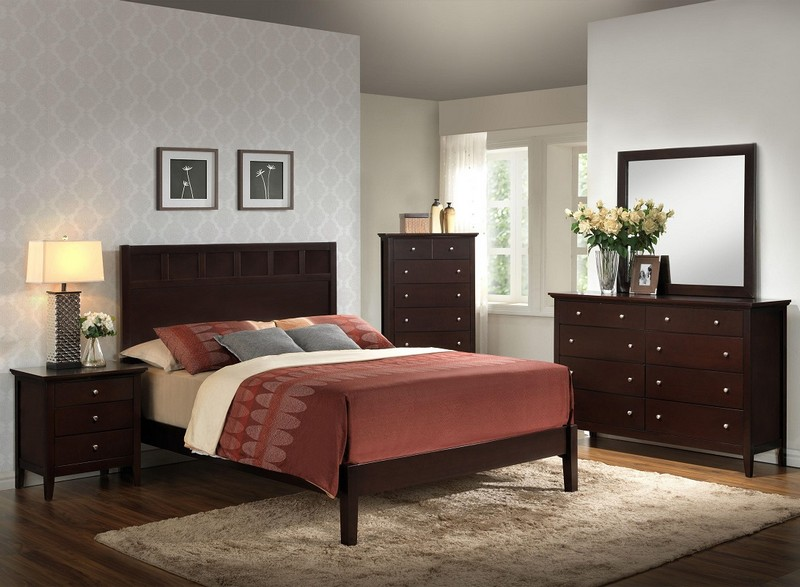bed: (116, 237, 582, 546)
lamp: (27, 233, 104, 374)
stool: (6, 362, 150, 513)
